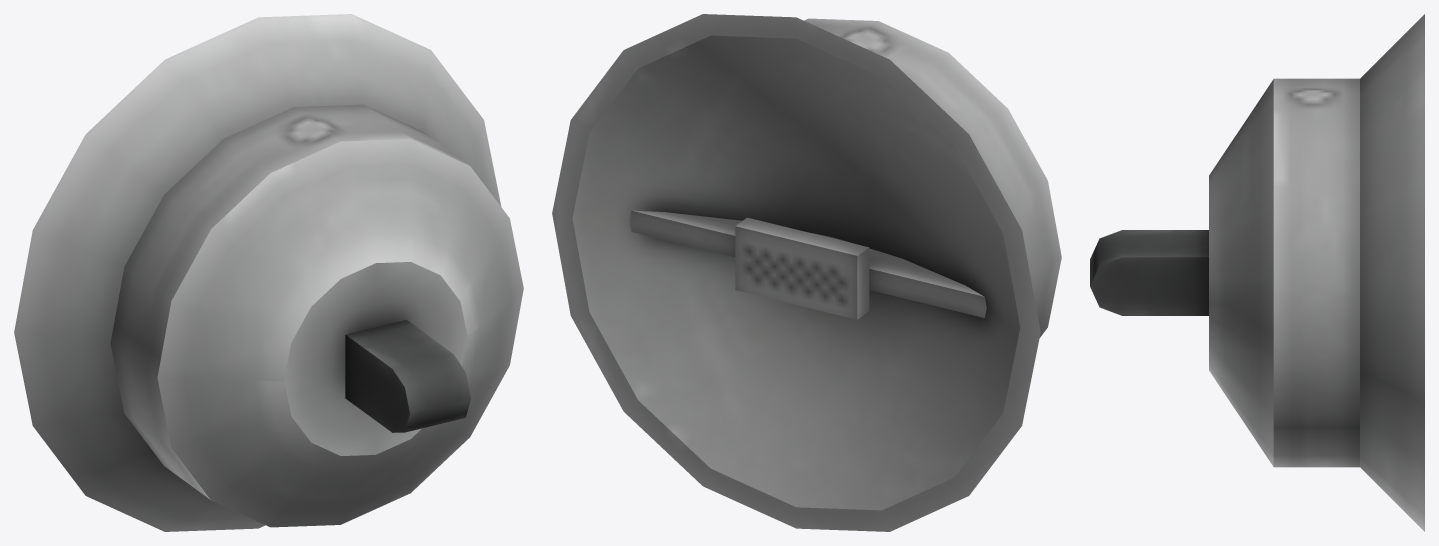
File: octans_high_gain_antenna_srf_1_fixed.obj
The picture shows the model from 3 angles, left to right: view 1: azimuth 30°, elevation 25°; view 2: azimuth 150°, elevation 25°; view 3: azimuth 270°, elevation 25°; orthographic projection. The views are drawn at different scales.
Parts seen in each view (by area): view 1: mesh; view 2: mesh; view 3: mesh.
Part boxes in pixels (left/top/right/bottom): mesh: left=14, top=14, right=523, bottom=531; mesh: left=552, top=14, right=1061, bottom=531; mesh: left=1090, top=14, right=1424, bottom=531.
Size of the model in its own units: 0.3 by 0.3 by 0.1937.
Materials: 1 (1 with a texture image).
